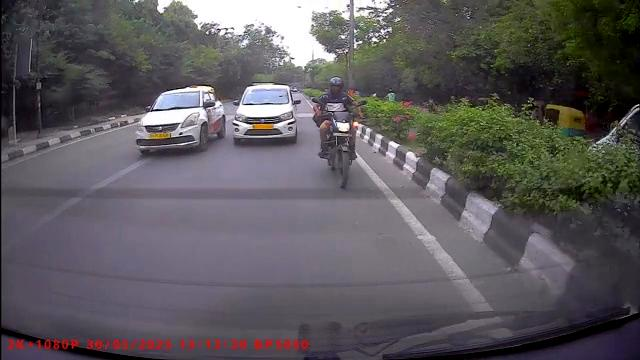motorcycle_with_helmet: (312, 74, 363, 191)
